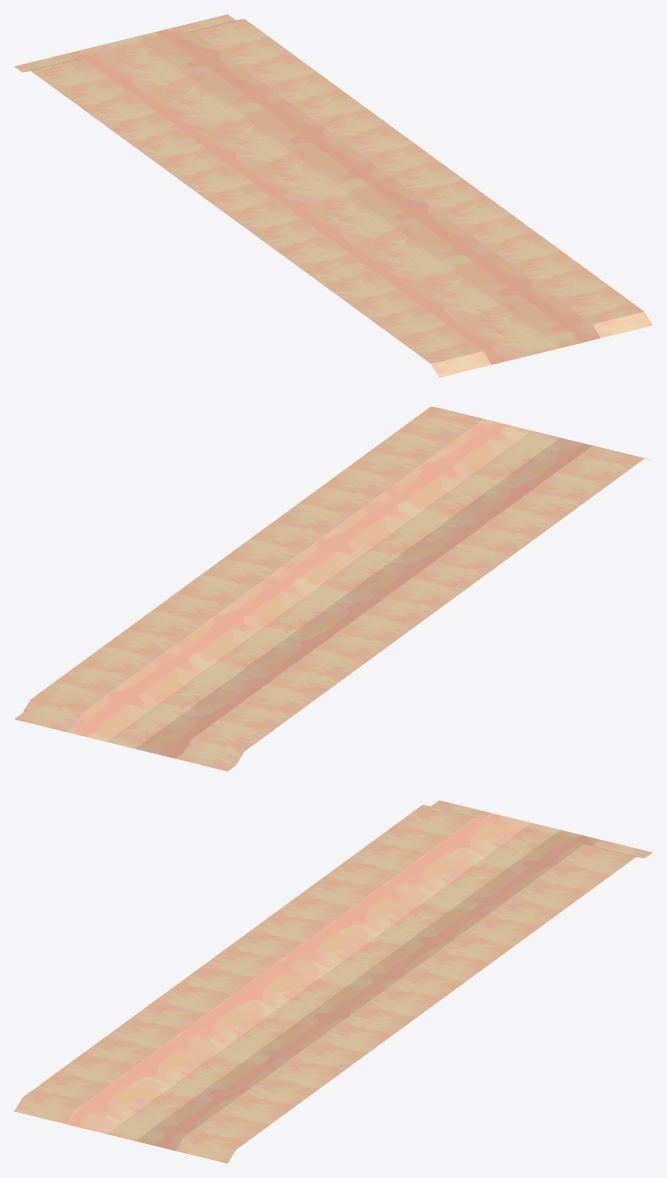
The model's file is Mesh_Adventure_Canyon_Ground_01.fbx.
3 renders of one model, top to bottom at view 1: azimuth 30°, elevation 25°; view 2: azimuth 150°, elevation 25°; view 3: azimuth 330°, elevation 25°, orthographic.
Visible parts, largest first — view 1: Mesh_Adventure_Canyon_Ground; view 2: Mesh_Adventure_Canyon_Ground; view 3: Mesh_Adventure_Canyon_Ground.
Boxes of the visible parts, x1,y1,x2,y2 form: Mesh_Adventure_Canyon_Ground: (14, 14, 652, 377); Mesh_Adventure_Canyon_Ground: (14, 406, 649, 771); Mesh_Adventure_Canyon_Ground: (14, 800, 652, 1163).
Size of the model in its own units: 1016 by 35.05 by 3500.
